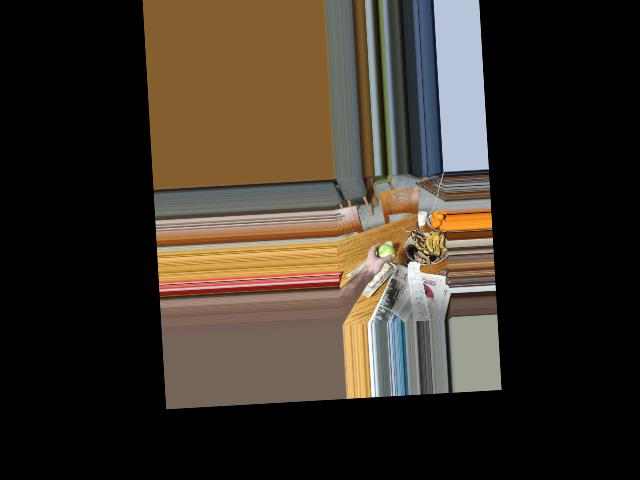apple: (375, 242, 396, 264)
